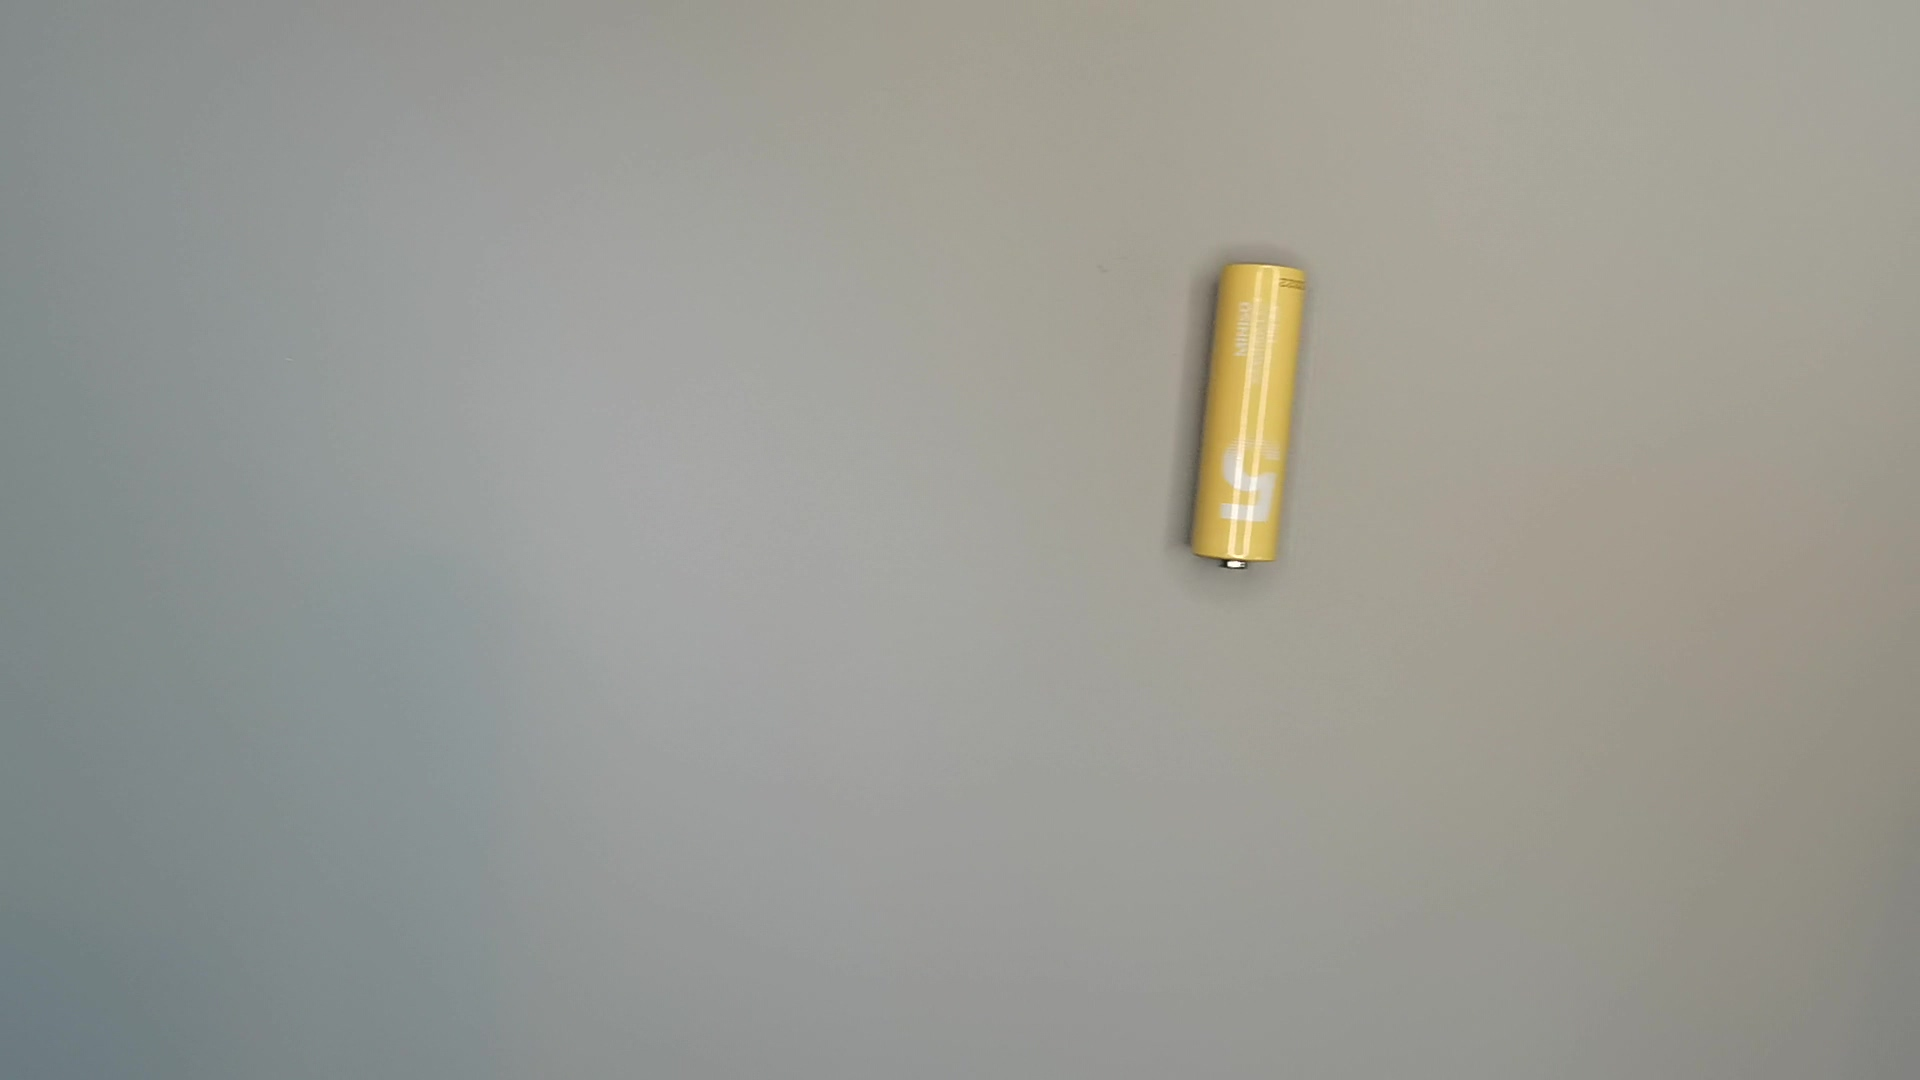battery: (1174, 256, 1317, 575)
